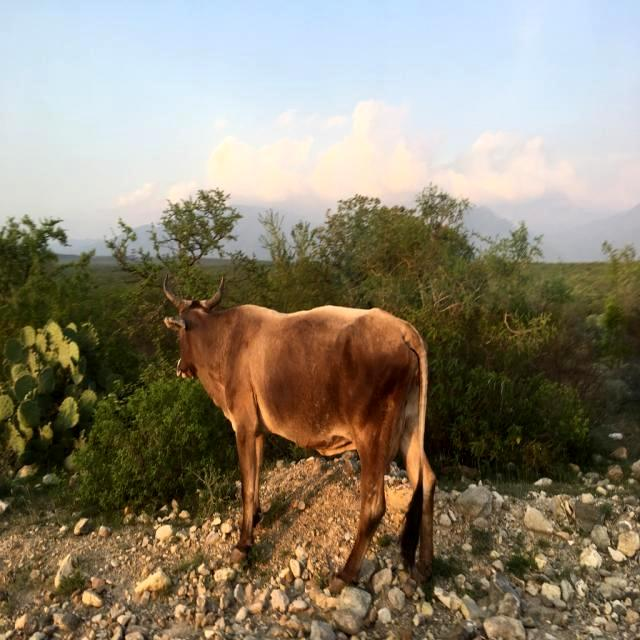COW: (164, 282, 435, 584)
